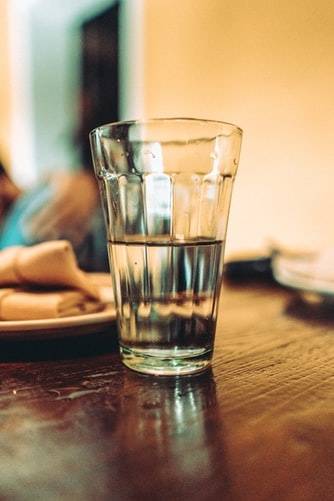whiskey: (96, 123, 241, 372)
